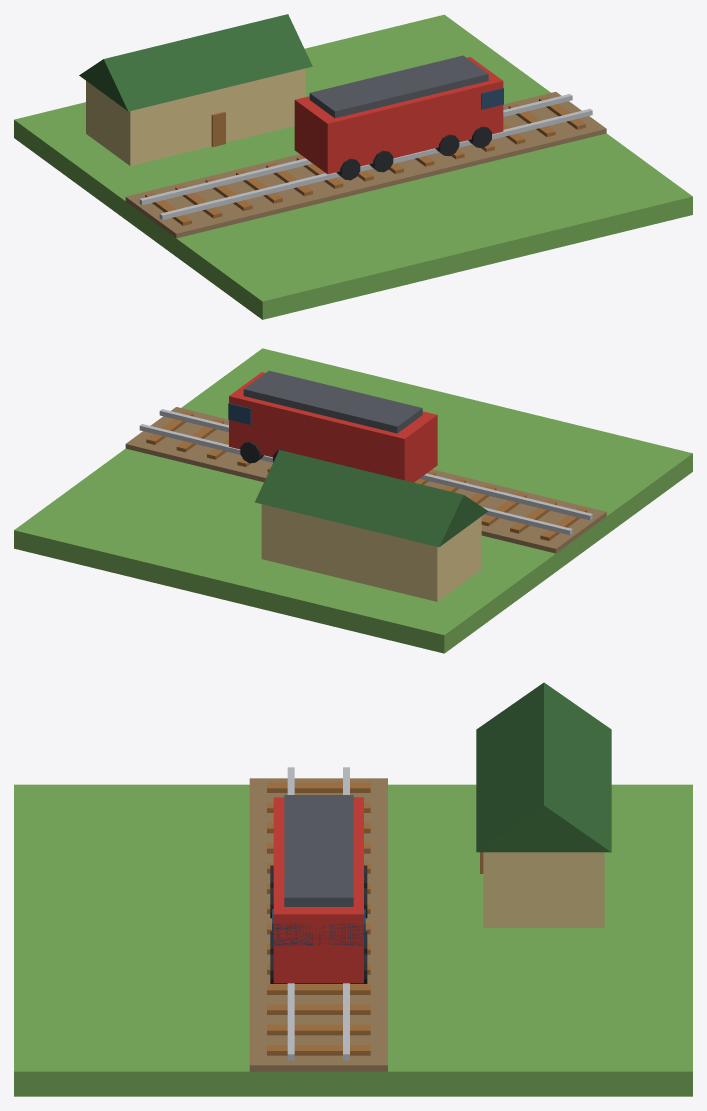
The model's file is transsib.glb.
The picture shows the model from 3 angles, top to bottom: view 1: azimuth 30°, elevation 25°; view 2: azimuth 150°, elevation 25°; view 3: azimuth 270°, elevation 25°; orthographic projection. The views are drawn at different scales.
Visible parts, largest first — view 1: transsib; view 2: transsib; view 3: transsib.
Part boxes in pixels (<box>): transsib: <box>14,14,692,319</box>; transsib: <box>14,348,692,653</box>; transsib: <box>14,682,692,1096</box>.
Bounding box in the file's own units: 1.96 × 0.48 × 1.96.
